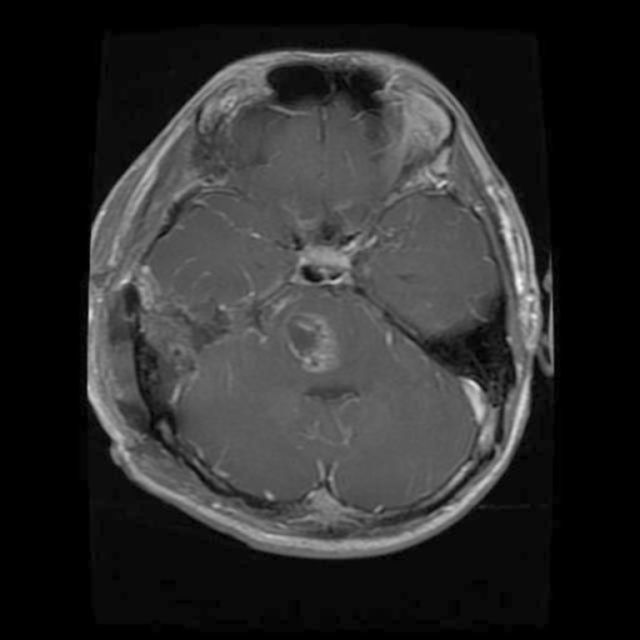pituitary tumor: (286, 312, 339, 372)
